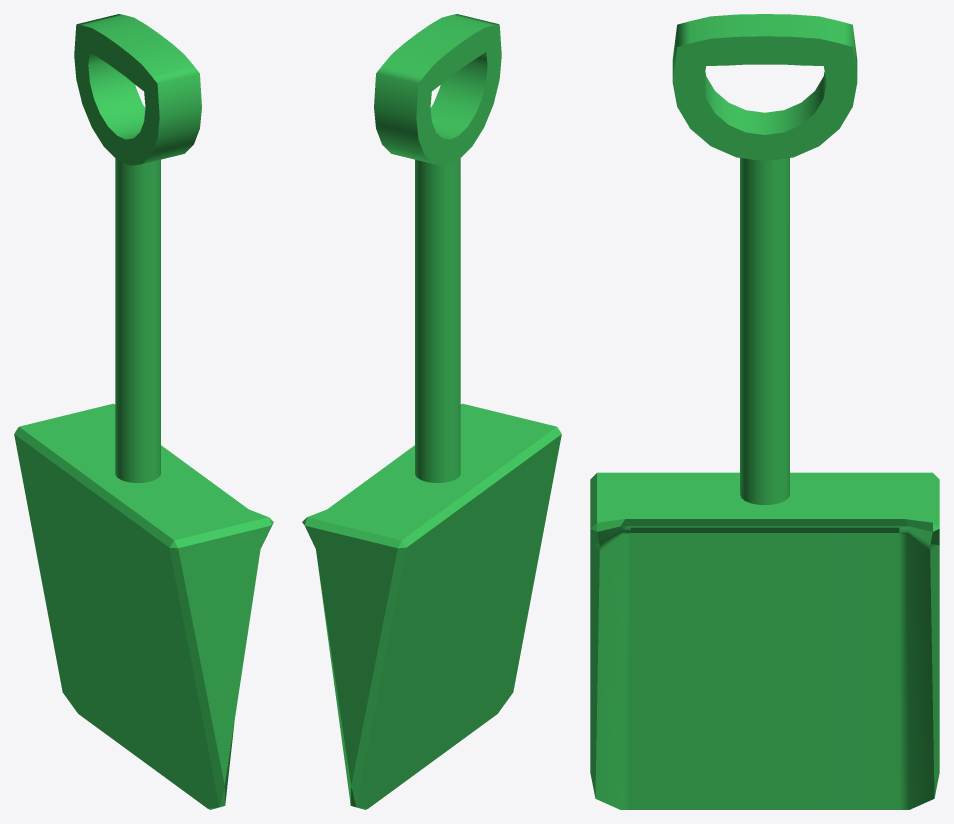
The model's file is Shovel Complete.fbx.
The picture shows the model from 3 angles, left to right: view 1: azimuth 30°, elevation 25°; view 2: azimuth 150°, elevation 25°; view 3: azimuth 270°, elevation 25°; orthographic projection. The views are drawn at different scales.
Parts seen in each view (by area): view 1: pCube1, pPipe1, pCylinder1; view 2: pCube1, pPipe1, pCylinder1; view 3: pCube1, pPipe1, pCylinder1.
Boxes of the visible parts, x1,y1,x2,y2 form: pCube1: (14,403,273,809); pPipe1: (74,14,201,165); pCylinder1: (115,158,160,482); pCube1: (302,403,561,809); pPipe1: (374,14,501,165); pCylinder1: (415,158,460,482); pCube1: (590,472,939,809); pPipe1: (672,14,857,161); pCylinder1: (740,158,789,504).
Size of the model in its own units: 0.6076 by 4.02 by 1.63.
